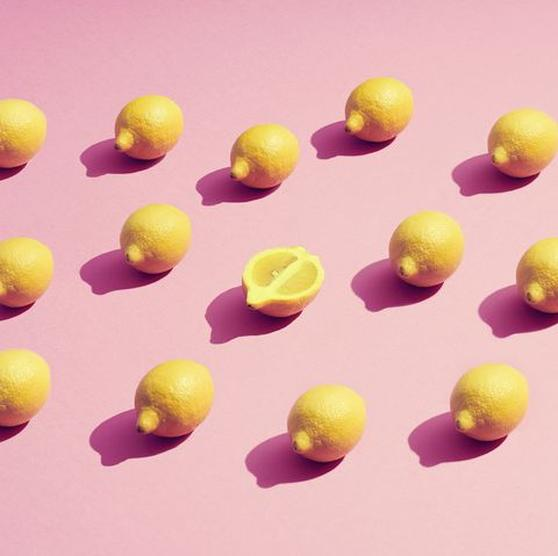lemon: (340, 75, 421, 143), (227, 125, 302, 188)
